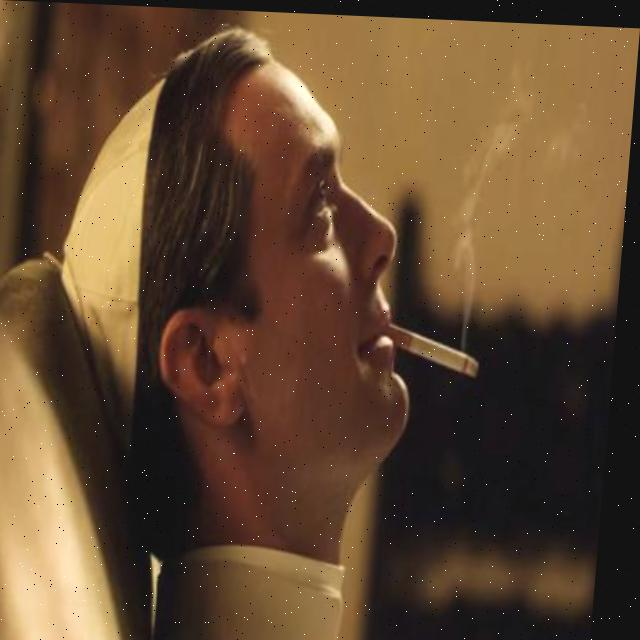cigarette: (389, 320, 489, 374)
